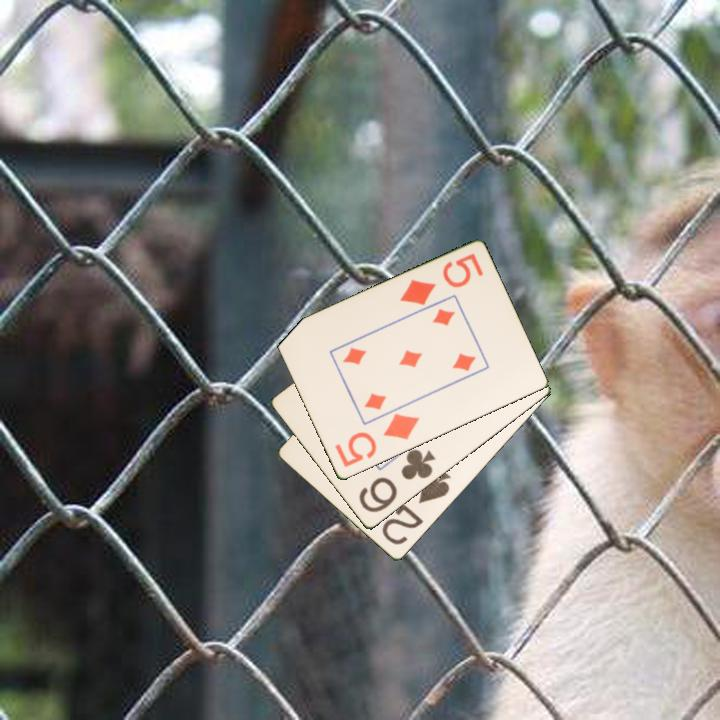2s: (378, 466, 454, 548)
5d: (331, 410, 423, 471), (396, 250, 486, 309)
6c: (355, 446, 438, 516)
